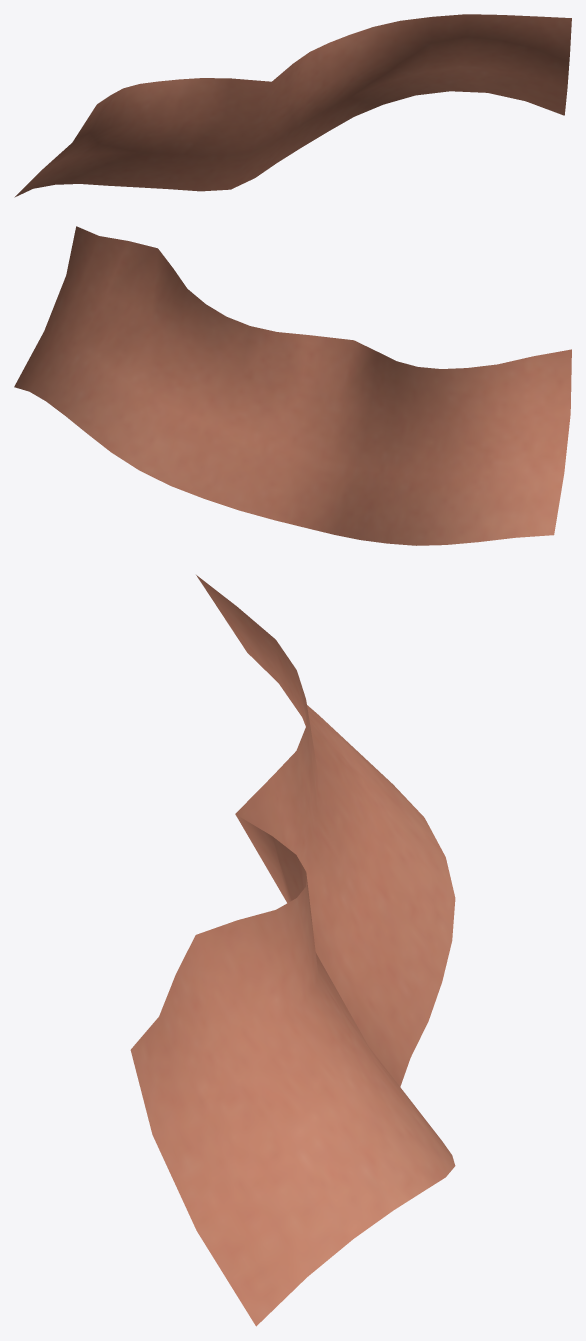
File: lowerback.glb
3 views of the same model, one above another, from view 1: azimuth 30°, elevation 25°; view 2: azimuth 150°, elevation 25°; view 3: azimuth 270°, elevation 25° (orthographic). The views are drawn at different scales.
Visible parts, largest first — view 1: lowerback; view 2: lowerback; view 3: lowerback.
Boxes of the visible parts, left/top/right/bottom form: lowerback: left=14, top=14, right=571, bottom=197; lowerback: left=14, top=226, right=571, bottom=545; lowerback: left=130, top=575, right=455, bottom=1326.
Bounding box in the file's own units: 0.0239 × 0.00741 × 0.0065.
1 material, 1 textured.
